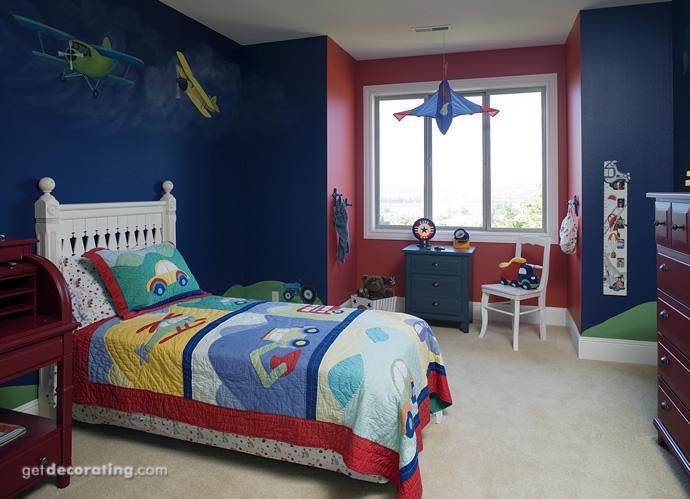Armario: (659, 196, 688, 455)
Cama: (78, 258, 428, 477)
Ventana: (364, 90, 552, 232)
